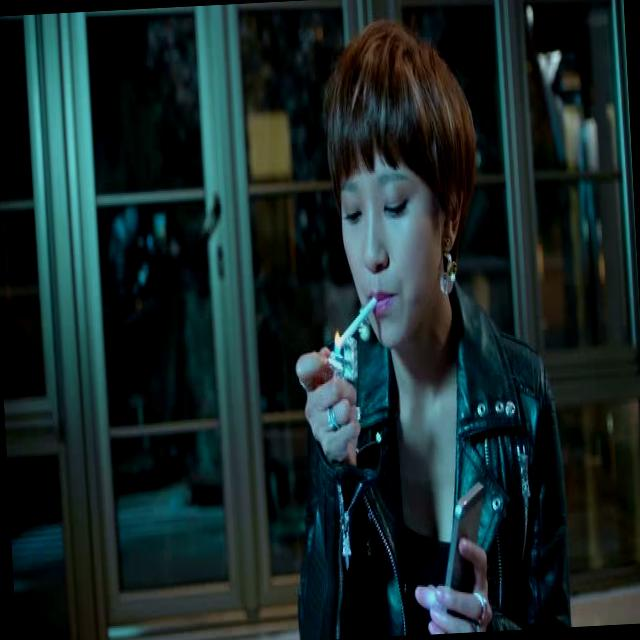smoke: (334, 298, 380, 348)
